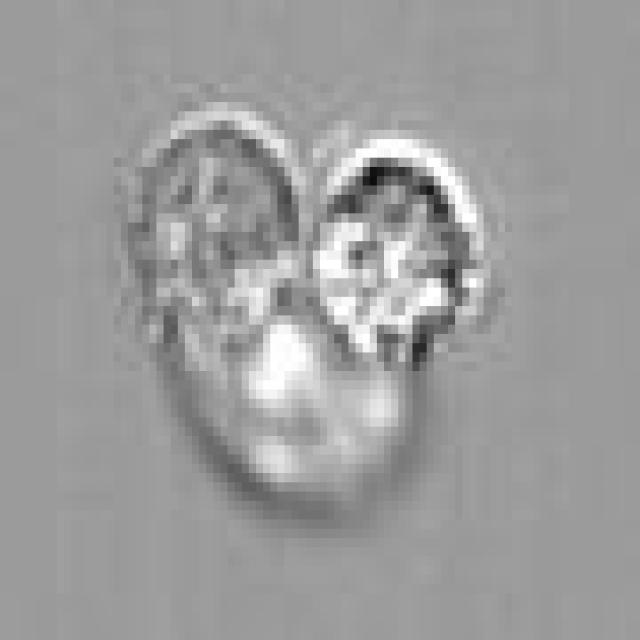Cancer Cell: (135, 111, 299, 352)
WBC: (313, 148, 469, 352)
